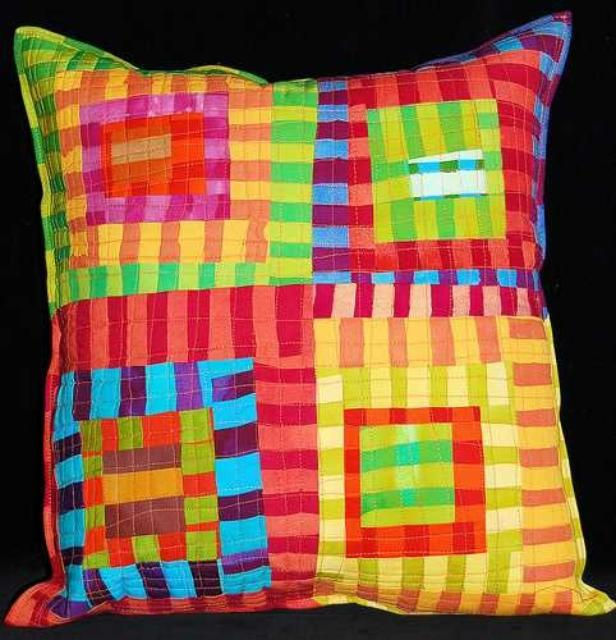pillow: (3, 9, 616, 627)
